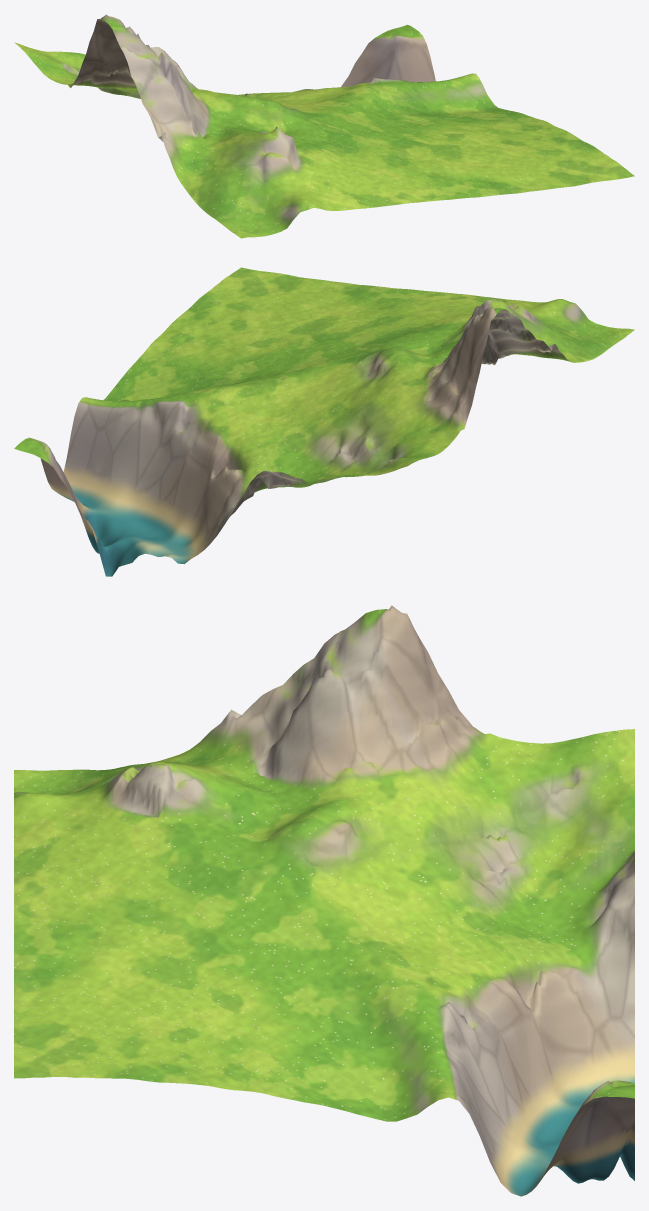
The picture shows the model from 3 angles, top to bottom: view 1: azimuth 30°, elevation 25°; view 2: azimuth 150°, elevation 25°; view 3: azimuth 270°, elevation 25°; orthographic projection. The views are drawn at different scales.
Visible parts, largest first — view 1: t064_064; view 2: t064_064; view 3: t064_064.
Part boxes in pixels (<box>): t064_064: <box>14,14,634,238</box>; t064_064: <box>14,267,634,576</box>; t064_064: <box>14,605,634,1196</box>.
Size of the model in its own units: 64 by 42.89 by 64.
1 material, 1 textured.
